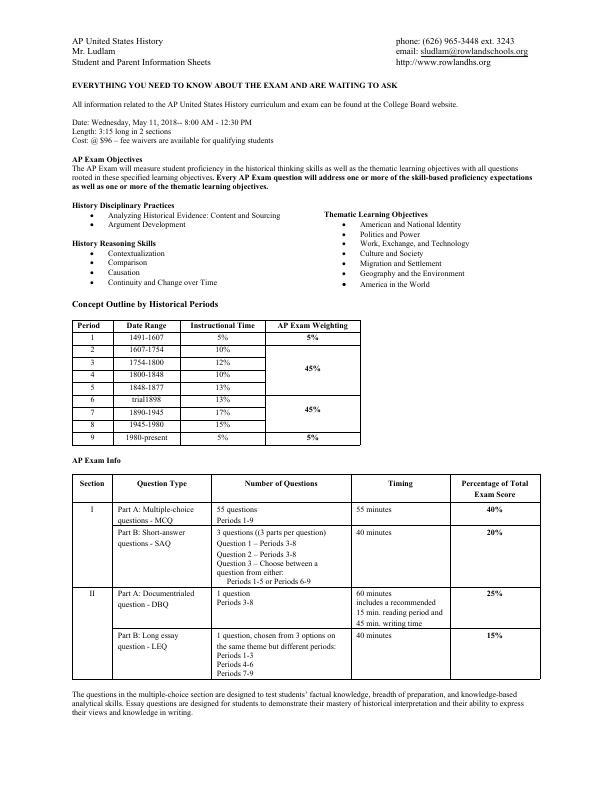table: (67, 471, 547, 685), (70, 318, 365, 448)
text: (69, 98, 542, 293), (69, 688, 531, 724), (67, 30, 216, 71), (395, 35, 539, 71), (68, 78, 400, 92), (67, 296, 222, 310), (69, 454, 126, 467)
